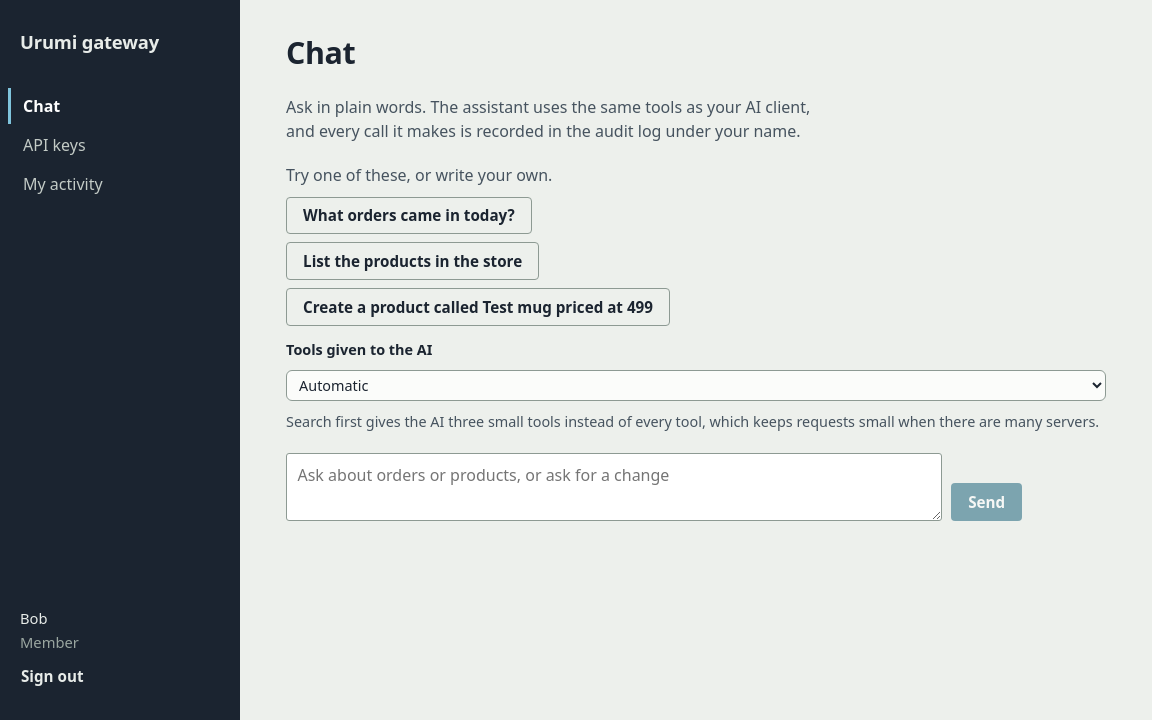
Test: chat › shows the service error and keeps the conversation
Expected: the heading "Chat" is shown, left=286, top=36, right=355, bottom=71
In the text box named "Your message": (614, 487) left=286, top=453, right=942, bottom=521, type "hello"
Then press Enter
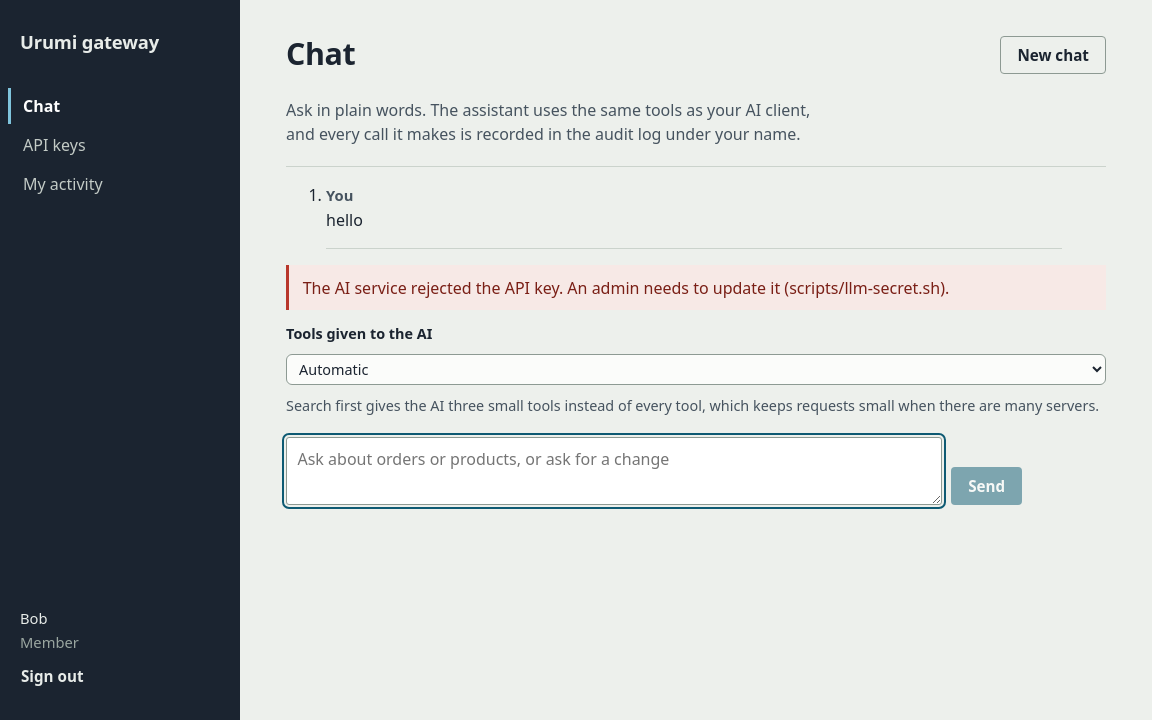
Now the message shows "rejected the API key", box left=303, top=277, right=949, bottom=299
Now the text "hello" is shown, box left=326, top=209, right=363, bottom=231
